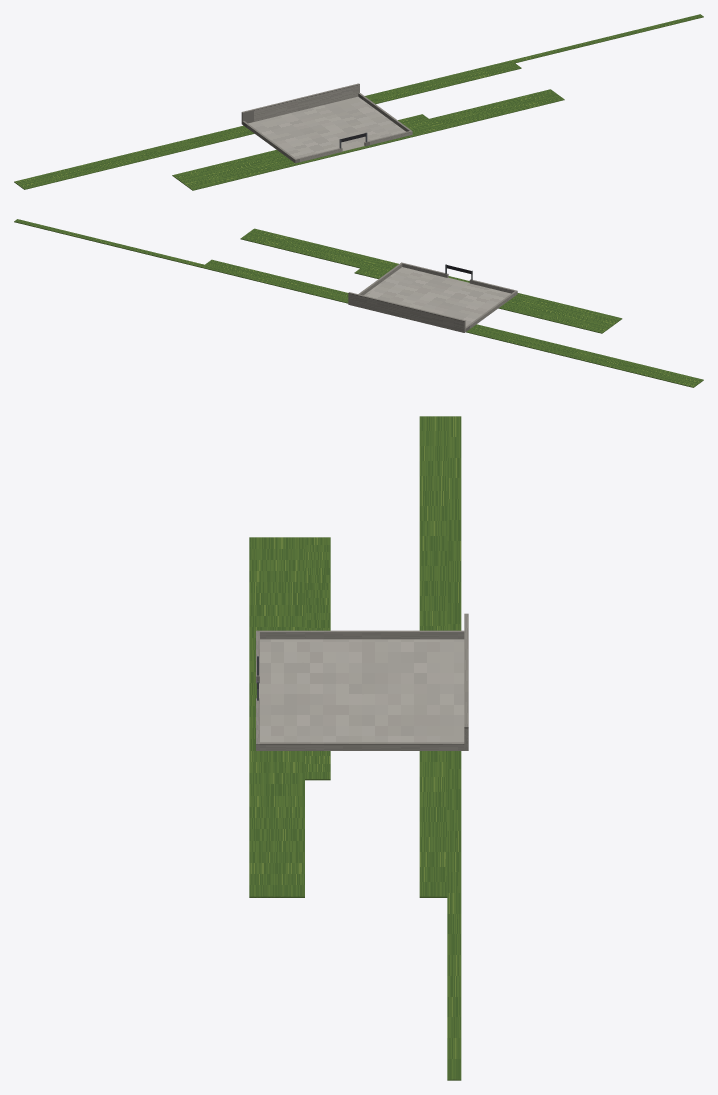
The model's file is structure.glb.
3 views of the same model, one above another, from view 1: azimuth 30°, elevation 25°; view 2: azimuth 150°, elevation 25°; view 3: azimuth 270°, elevation 25° (orthographic). The views are drawn at different scales.
Visible parts, largest first — view 1: Box8, Box3, Box6, Box5, Box9, Box4, Box12, Box13; view 2: Box8, Box3, Box6, Box5, Box9, Box4, Box1, Box7, Box12; view 3: Box8, Box3, Box6, Box5, Box4, Box12, Box13.
Part boxes in pixels (bbox=[...]): Box8: bbox=[248, 96, 405, 158]; Box3: bbox=[178, 89, 564, 190]; Box6: bbox=[17, 63, 521, 189]; Box5: bbox=[14, 14, 703, 184]; Box9: bbox=[241, 83, 359, 124]; Box4: bbox=[173, 115, 428, 179]; Box12: bbox=[242, 121, 295, 162]; Box13: bbox=[358, 93, 411, 131]; Box8: bbox=[363, 267, 510, 326]; Box3: bbox=[240, 228, 622, 328]; Box6: bbox=[205, 259, 703, 384]; Box5: bbox=[14, 219, 696, 387]; Box9: bbox=[348, 292, 465, 332]; Box4: bbox=[356, 268, 608, 332]; Box1: bbox=[14, 221, 693, 387]; Box7: bbox=[354, 272, 603, 333]; Box12: bbox=[465, 291, 516, 331]; Box8: bbox=[259, 639, 464, 742]; Box3: bbox=[249, 537, 304, 897]; Box6: bbox=[419, 416, 447, 897]; Box5: bbox=[447, 416, 461, 1080]; Box4: bbox=[305, 537, 325, 780]; Box12: bbox=[260, 630, 464, 639]; Box13: bbox=[260, 742, 464, 750].
Bounding box in the file's own units: 113 × 2.13 × 15.77.
5 materials, 3 textured.
